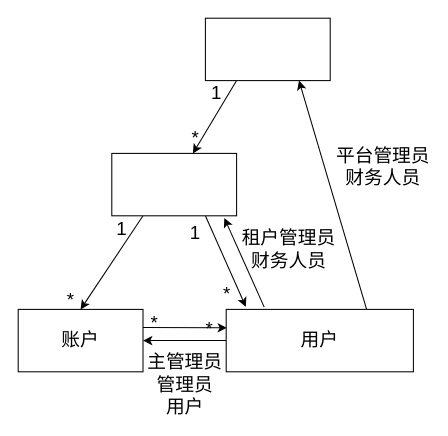
Some shapes in this 448 by 436 pixel diagram are drawn without their labels. Each missing label, with the box of its shape:
平台: (204, 17, 330, 81)
租户: (111, 152, 237, 216)
